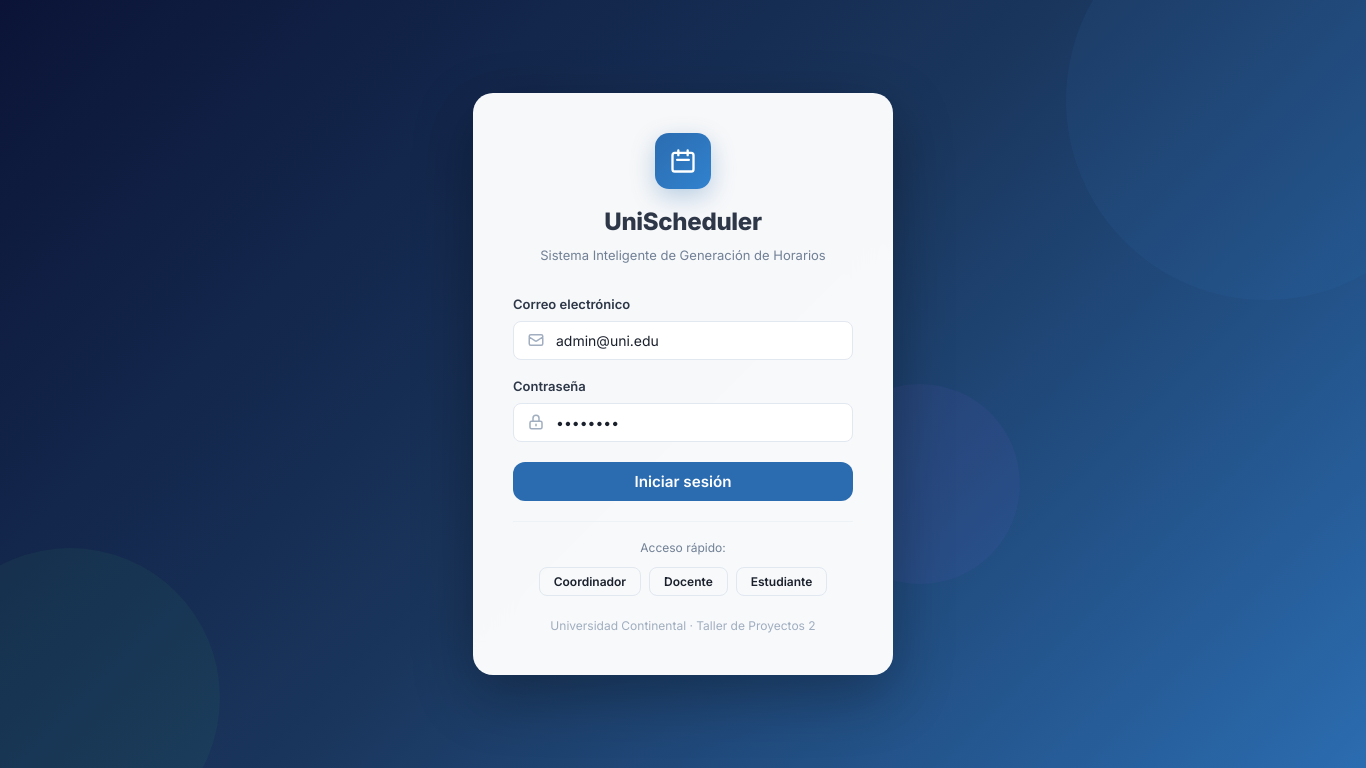
Test: Login Component › Estado de carga › debe deshabilitar el botón durante la carga
Click the button "Iniciar sesión": (683, 481) [513,462,853,501]
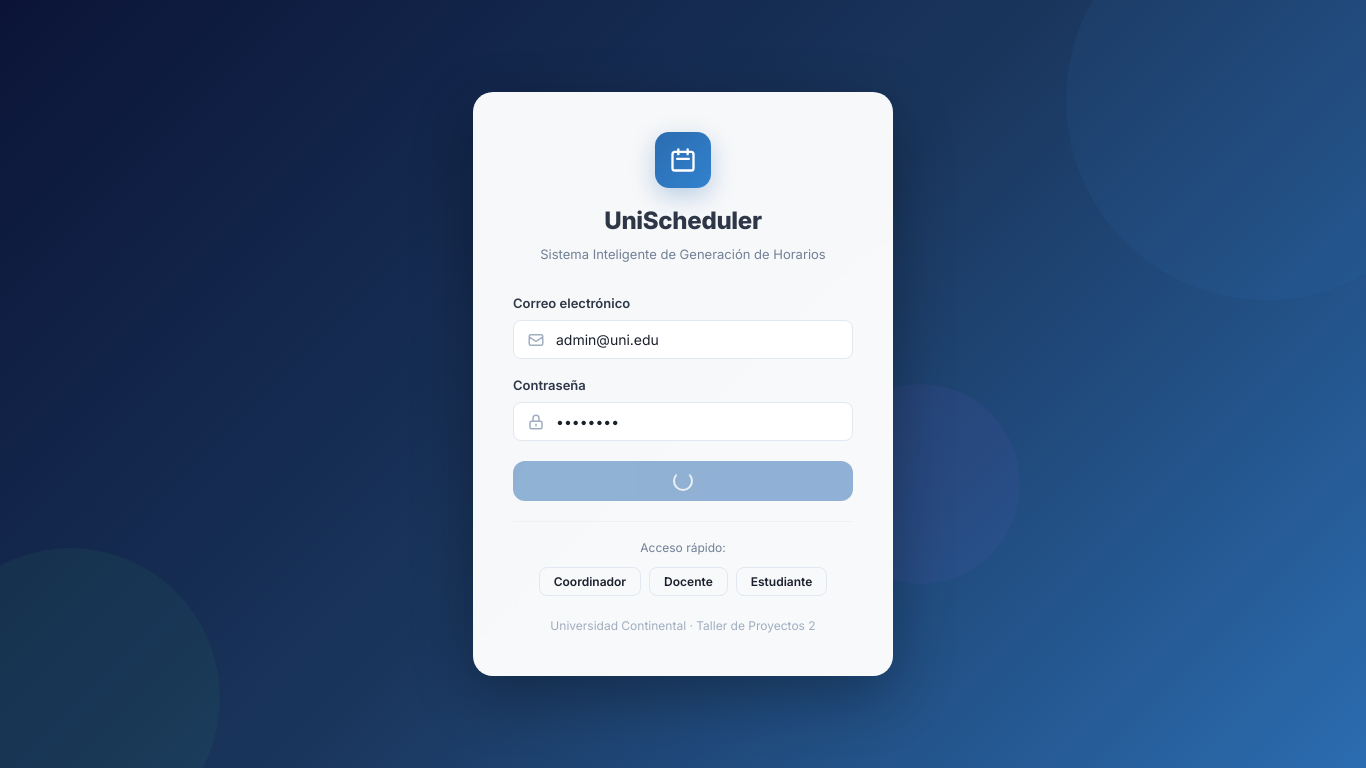
Check: the button named "iniciar sesión" is disabled, box [513,461,853,501]
